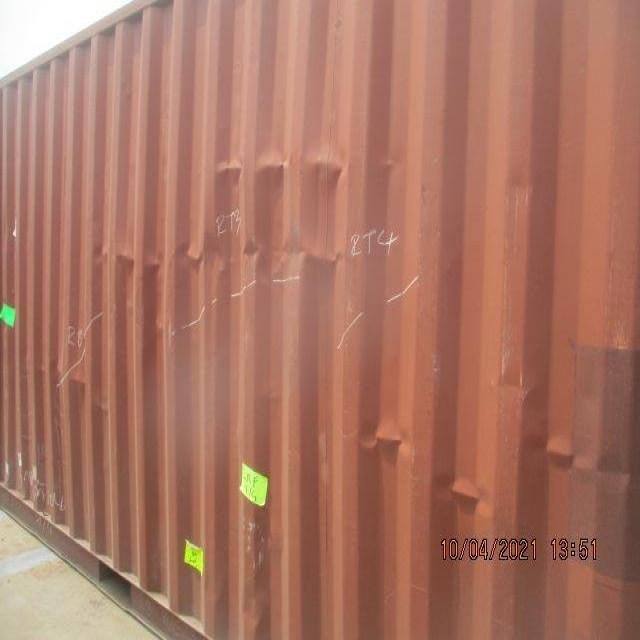Dent: (82, 209, 391, 296), (200, 130, 371, 202)
Minor-Dent: (342, 404, 504, 531)
